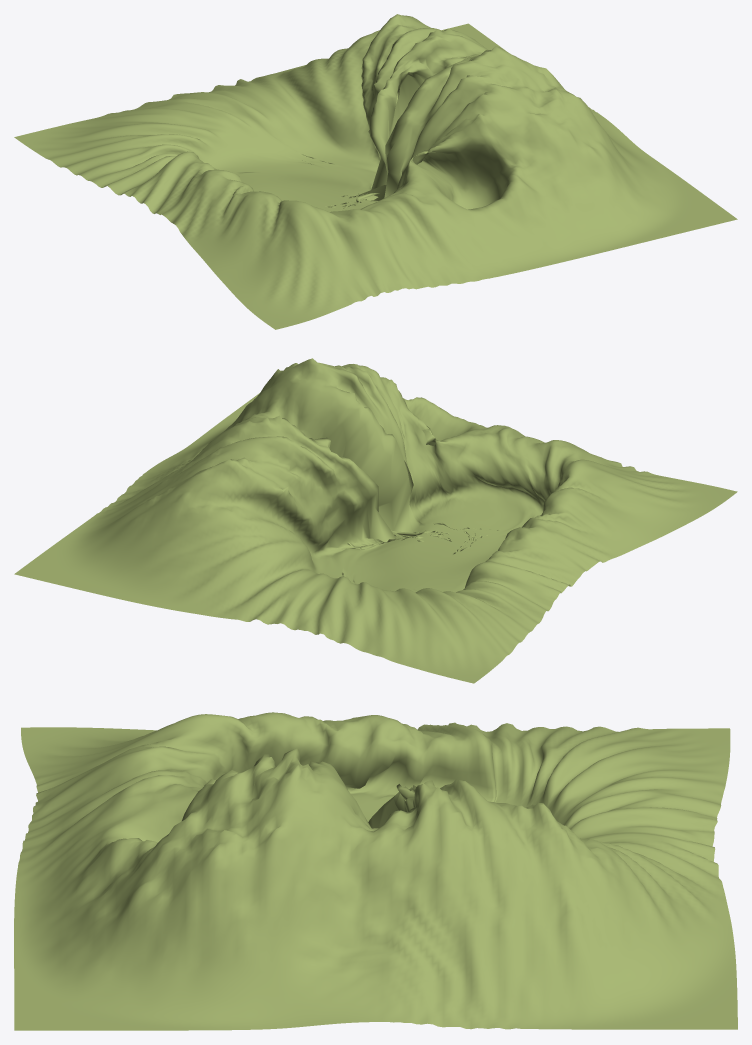
Rendered from mountain.fbx.
3 renders of one model, top to bottom at view 1: azimuth 30°, elevation 25°; view 2: azimuth 150°, elevation 25°; view 3: azimuth 270°, elevation 25°, orthographic. The views are drawn at different scales.
Visible parts, largest first — view 1: Landscape.001; view 2: Landscape.001; view 3: Landscape.001.
Boxes of the visible parts, x1=… form: Landscape.001: x1=14, y1=14, x2=737, y2=329; Landscape.001: x1=14, y1=358, x2=737, y2=683; Landscape.001: x1=14, y1=712, x2=737, y2=1030.
Bounding box in the file's own units: 10.77 × 10.87 × 3.28.
